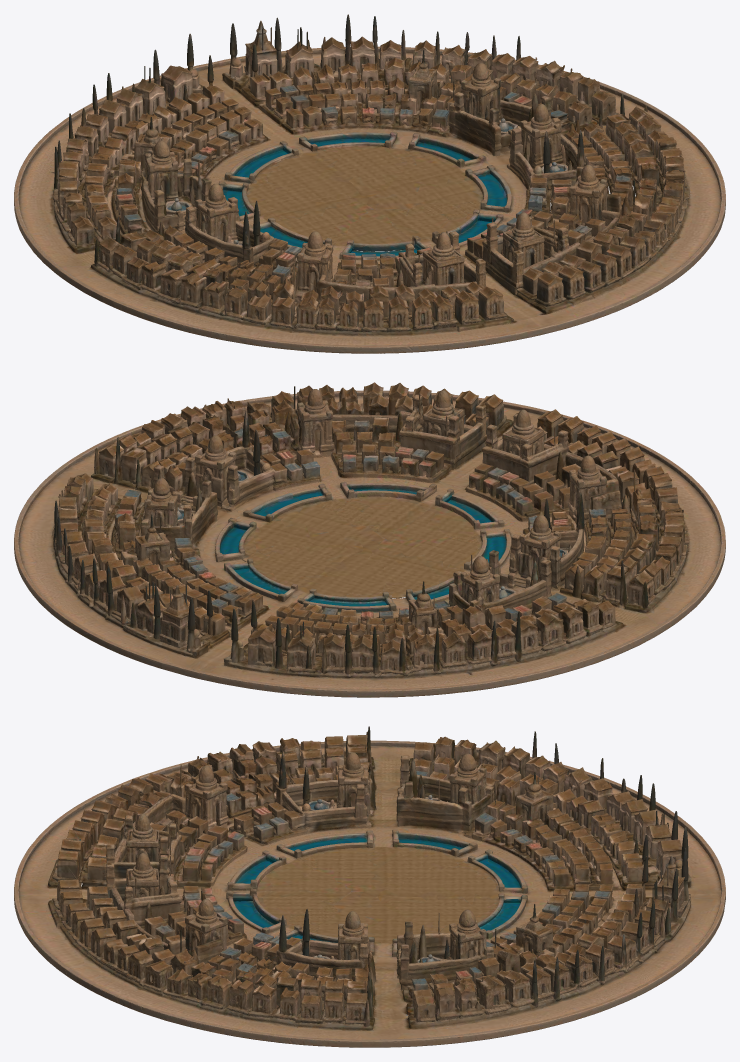
Rendered from sandy_ring_city.glb.
3 views of the same model, one above another, from view 1: azimuth 30°, elevation 25°; view 2: azimuth 150°, elevation 25°; view 3: azimuth 270°, elevation 25° (orthographic).
Size of the model in its own units: 1.9 by 0.2008 by 1.9.
1 material, 1 textured.
